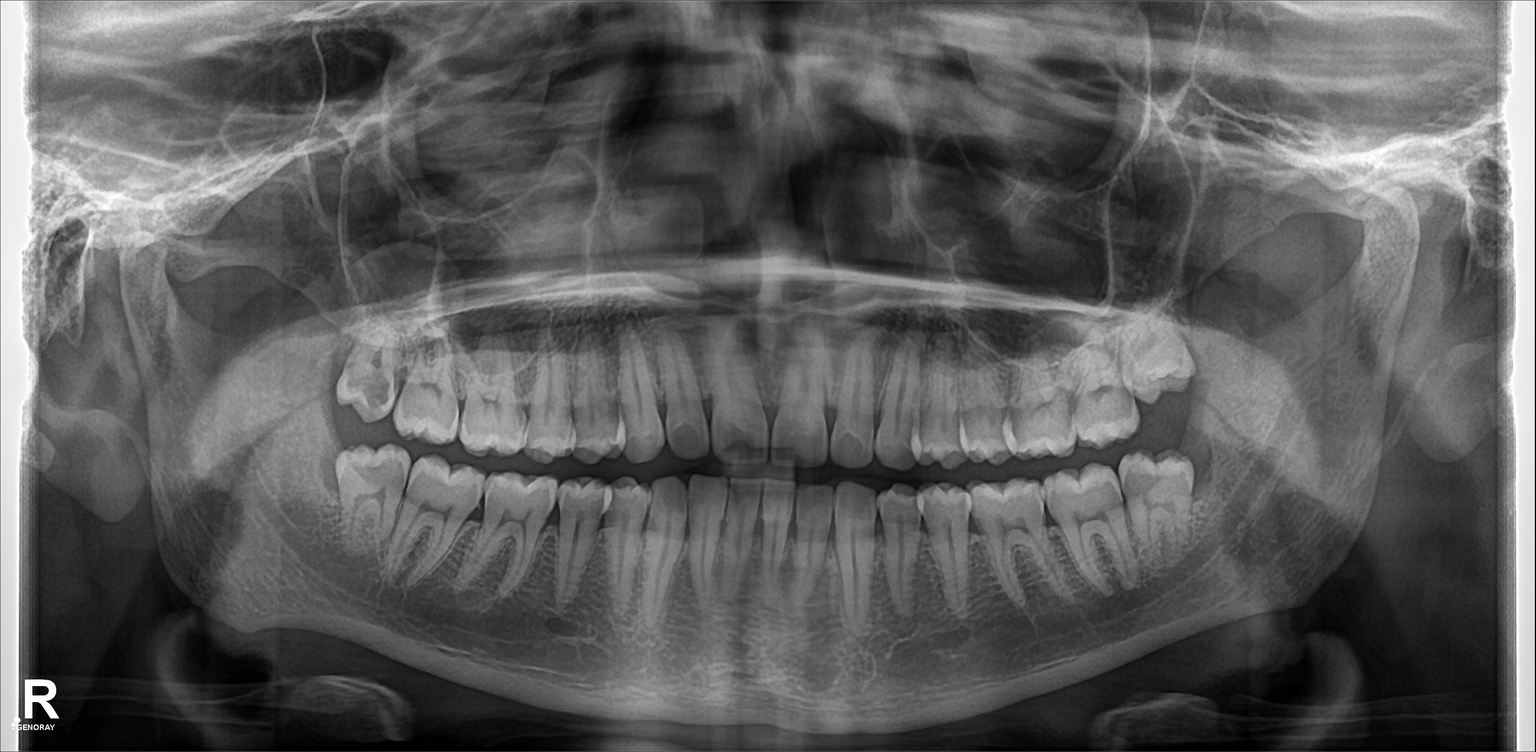Dental Caries: (356, 456, 401, 490), (352, 372, 392, 407), (667, 419, 703, 451)
Impacted Third Molar: (1121, 460, 1190, 563), (1117, 320, 1196, 398)
